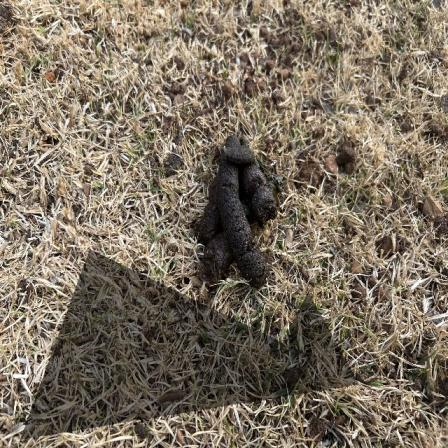dog-poop: (196, 138, 282, 278)
